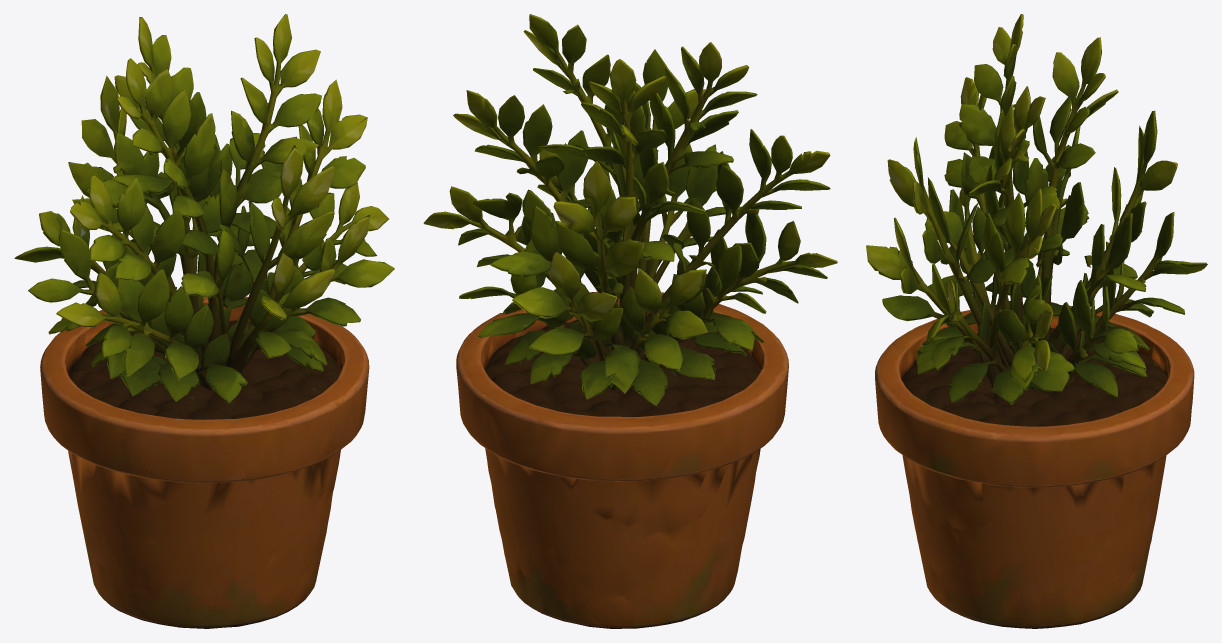
File: trim_potted_plant.glb
3 renders of one model, left to right at view 1: azimuth 30°, elevation 25°; view 2: azimuth 150°, elevation 25°; view 3: azimuth 270°, elevation 25°, orthographic. The views are drawn at different scales.
Visible parts, largest first — view 1: tripo_node_74e39767-5878-401e-b258-ff04afc55857; view 2: tripo_node_74e39767-5878-401e-b258-ff04afc55857; view 3: tripo_node_74e39767-5878-401e-b258-ff04afc55857.
Part boxes in pixels (left/top/right/bottom): tripo_node_74e39767-5878-401e-b258-ff04afc55857: left=14, top=14, right=394, bottom=628; tripo_node_74e39767-5878-401e-b258-ff04afc55857: left=423, top=14, right=837, bottom=628; tripo_node_74e39767-5878-401e-b258-ff04afc55857: left=866, top=14, right=1207, bottom=628.
Size of the model in its own units: 0.6883 by 0.9786 by 0.5655.
1 material, 1 textured.
